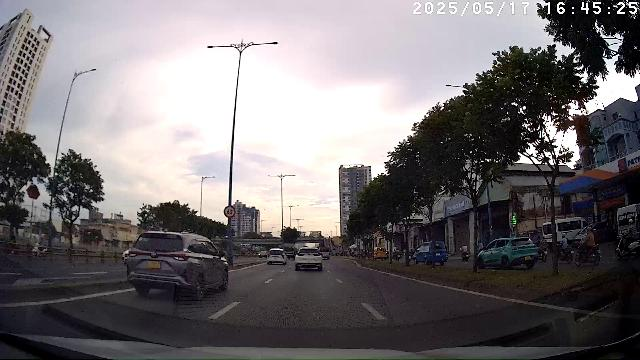127-toc-do-toi-da-60: (224, 205, 236, 218)
